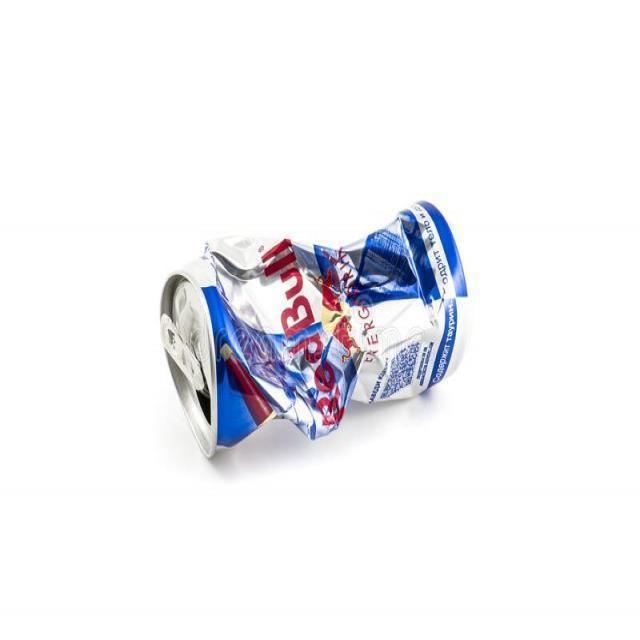metal-can: (157, 189, 470, 464)
